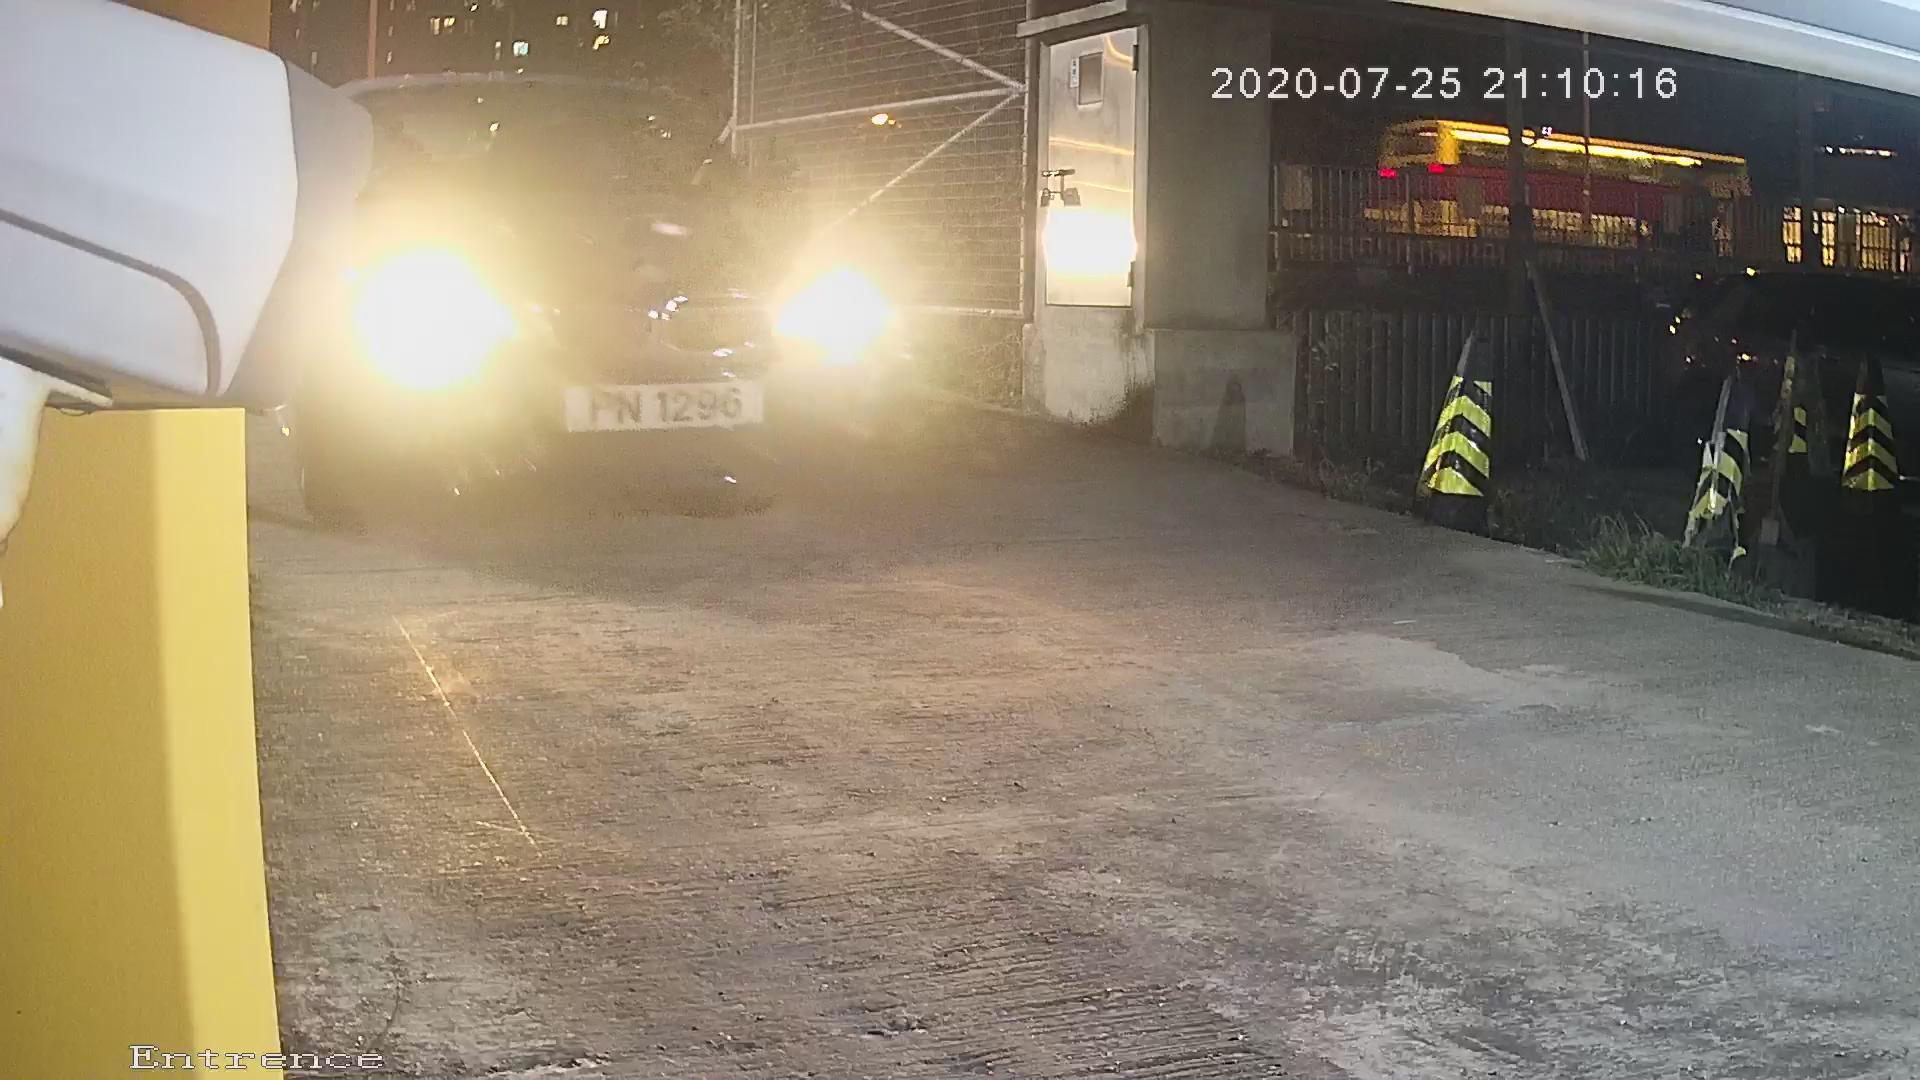License Plate: (555, 368, 777, 449)
